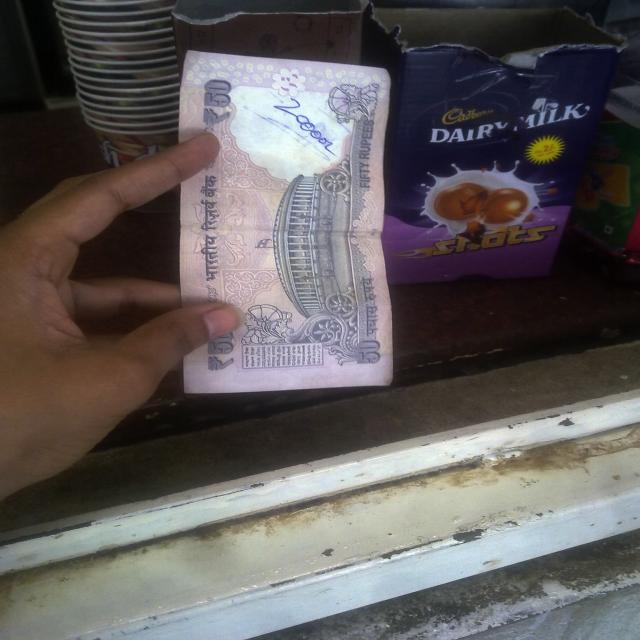50rs: (167, 48, 409, 407)
